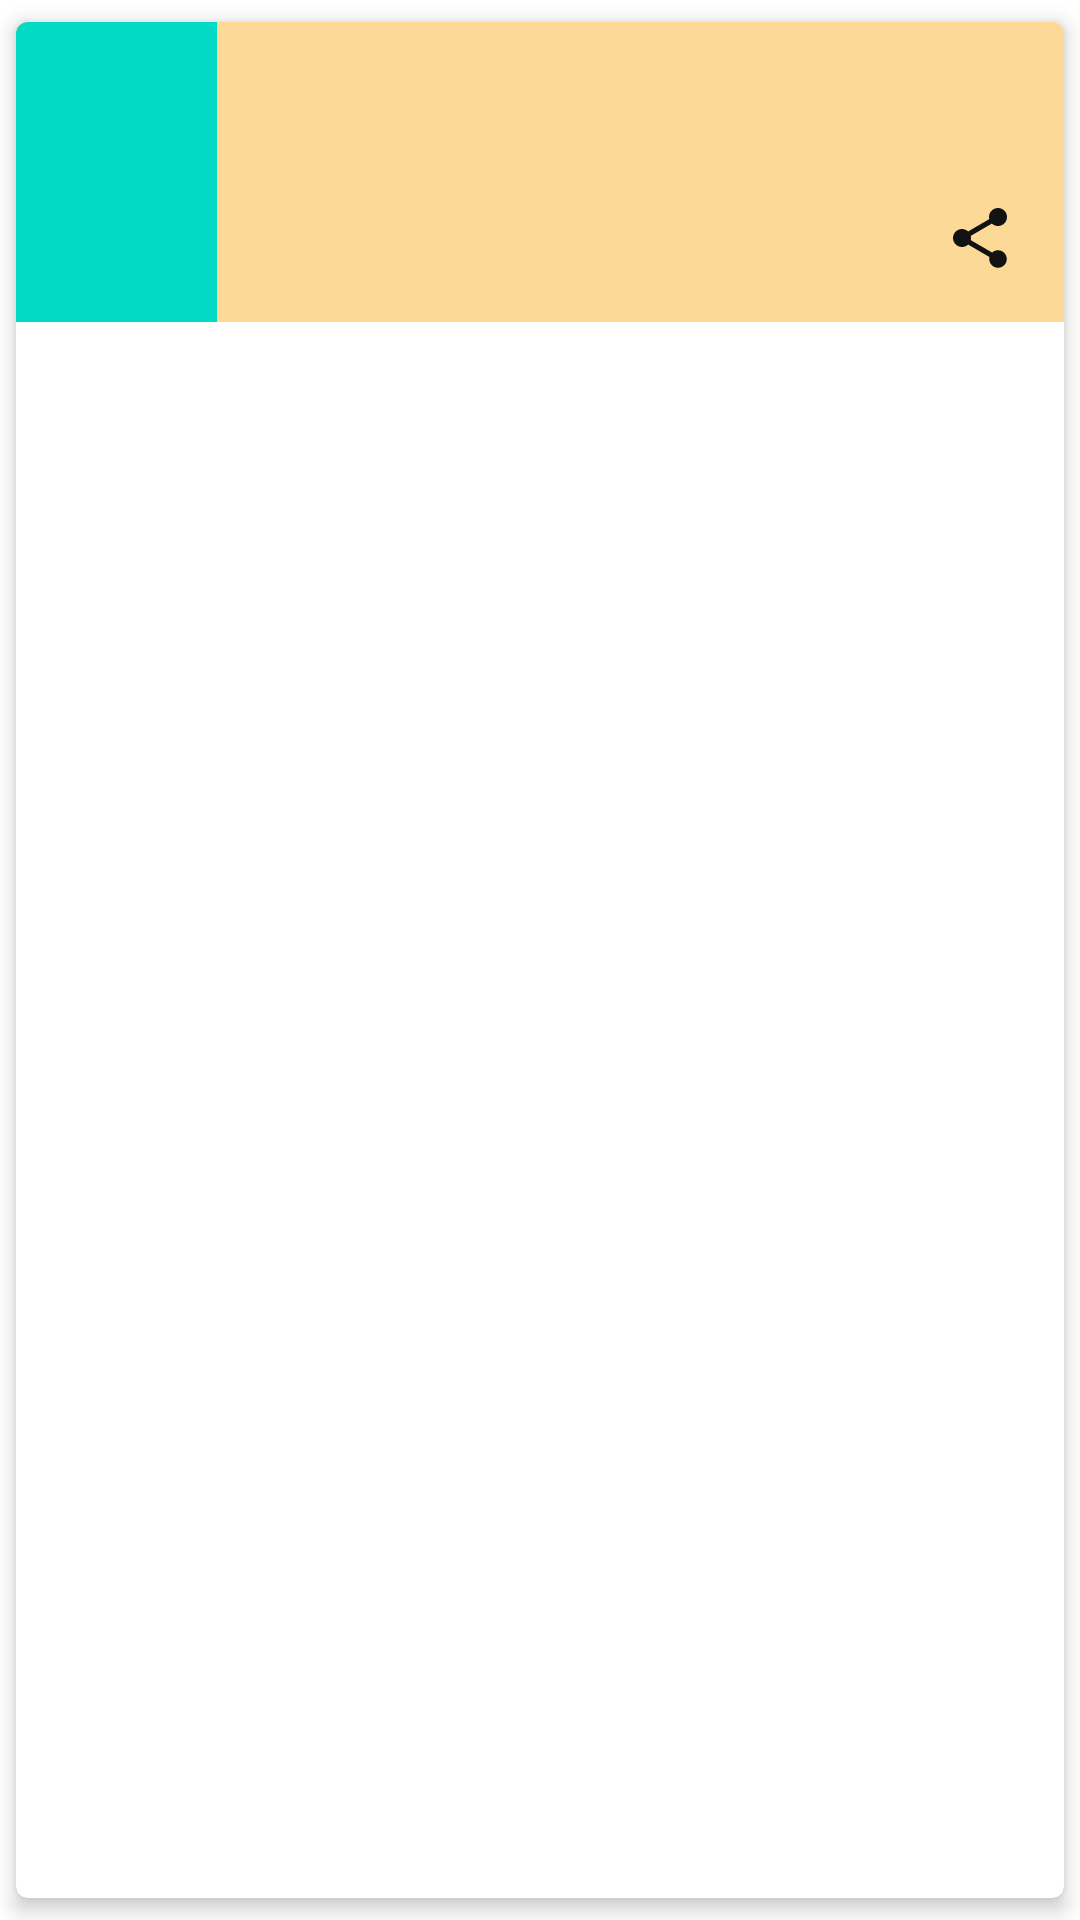

Icon click points for this 1080 × 1920 phone screenshot, format [x,y]:
share: [980,238]
